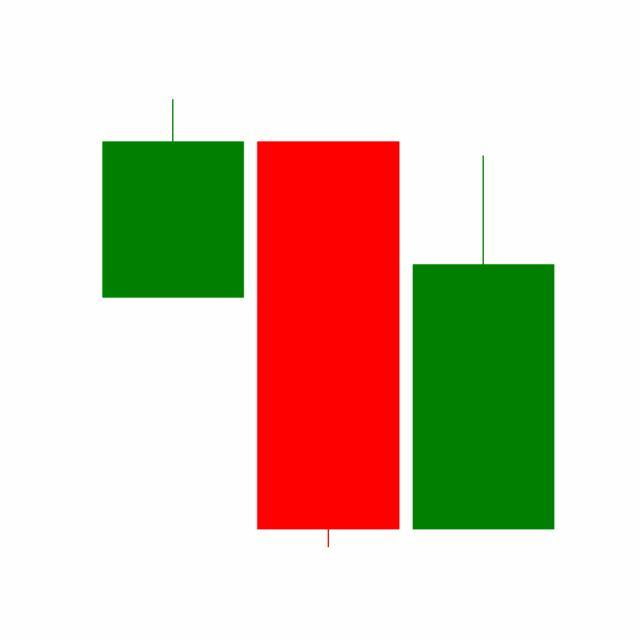Marubozu: (250, 138, 407, 553)
